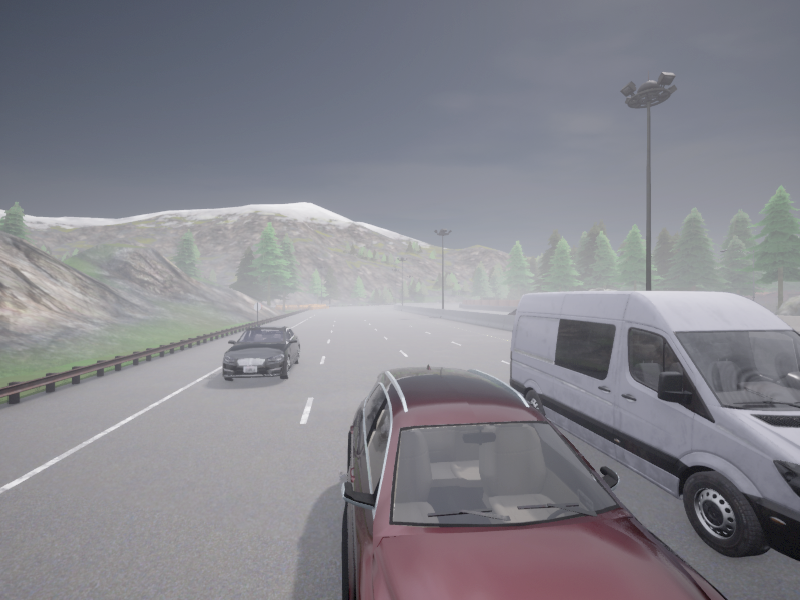vehicle: (341, 364, 727, 599), (510, 291, 799, 560), (222, 325, 299, 380), (507, 309, 516, 314)
